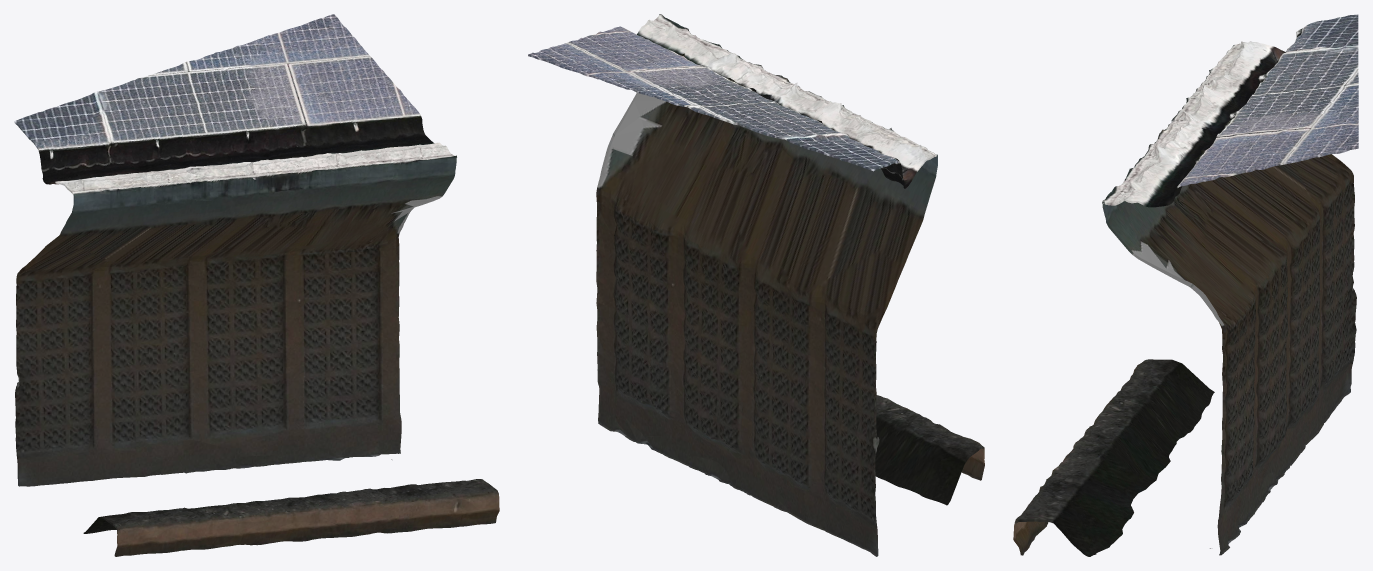
3 views of the same model, side by side, from view 1: azimuth 30°, elevation 25°; view 2: azimuth 150°, elevation 25°; view 3: azimuth 270°, elevation 25° (orthographic). The views are drawn at different scales.
Parts seen in each view (by area): view 1: node_181; view 2: node_181; view 3: node_181.
Boxes of the visible parts, box(x1,y1,x2,y2) form: node_181: box(14, 14, 499, 556); node_181: box(528, 14, 984, 556); node_181: box(1013, 14, 1358, 556).
Size of the model in its own units: 4.32 by 5.05 by 3.86.
Materials: 1 (1 with a texture image).
